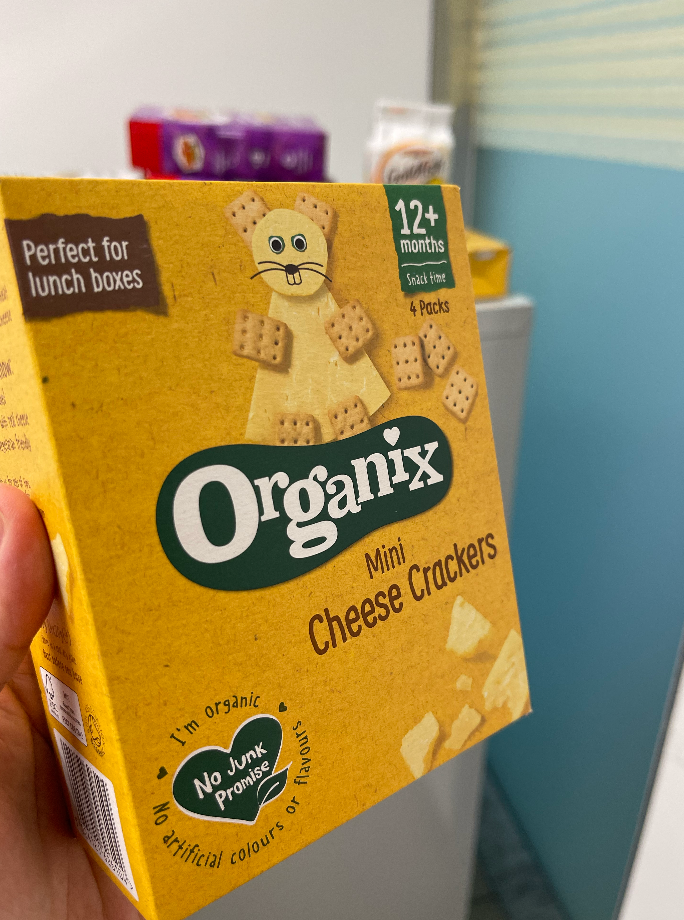crackers_1g-99g: (61, 180, 498, 849)
